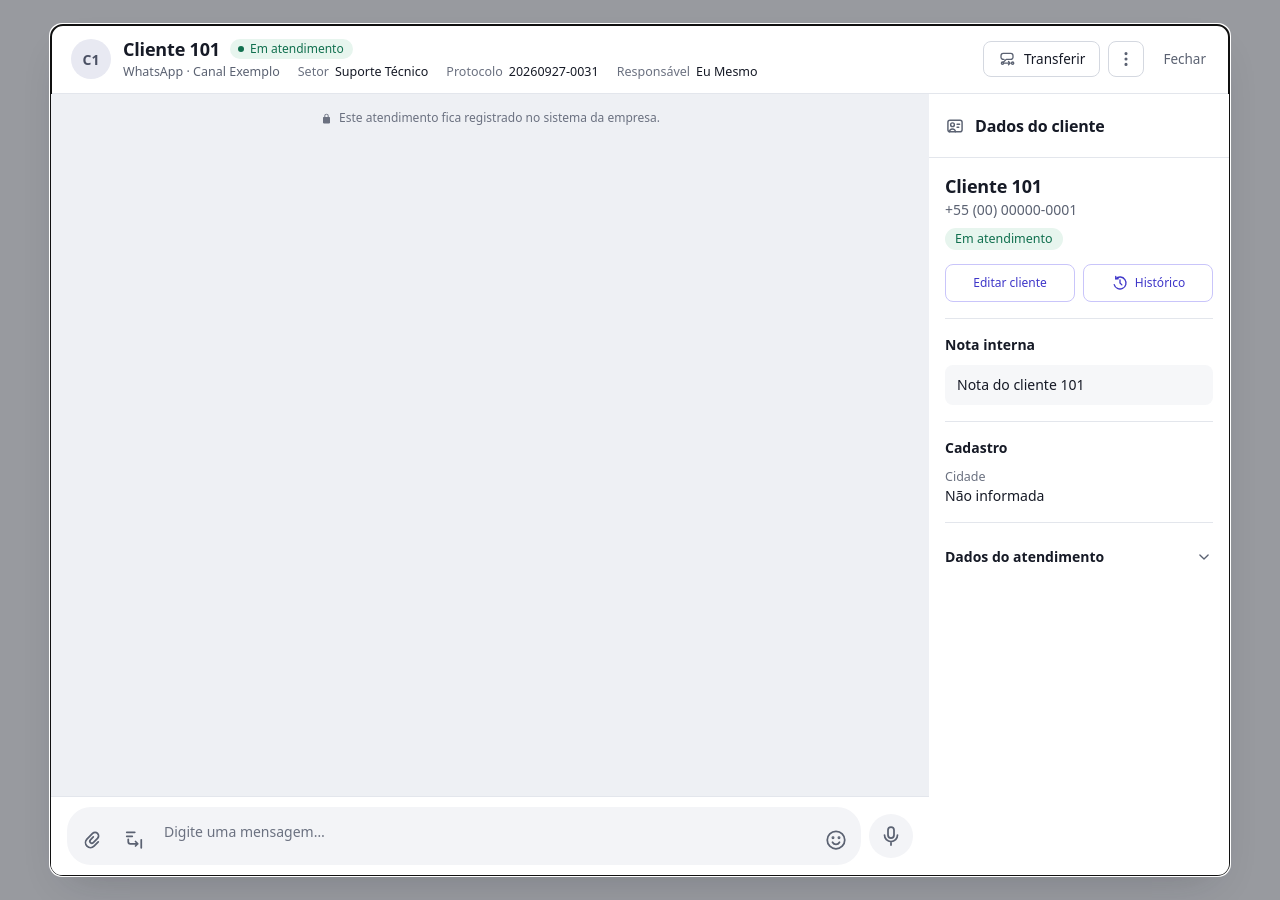
revisão: compositor, menu e foco dentro do popup › Escape com Emojis abertos fecha só o popover: o popup e o rascunho ficam
The width and height of the screenshot is (1280, 900).
Type "rascunho importante" into the text box with placeholder "Digite uma mensagem…" at (485, 836), box [156, 812, 814, 860]
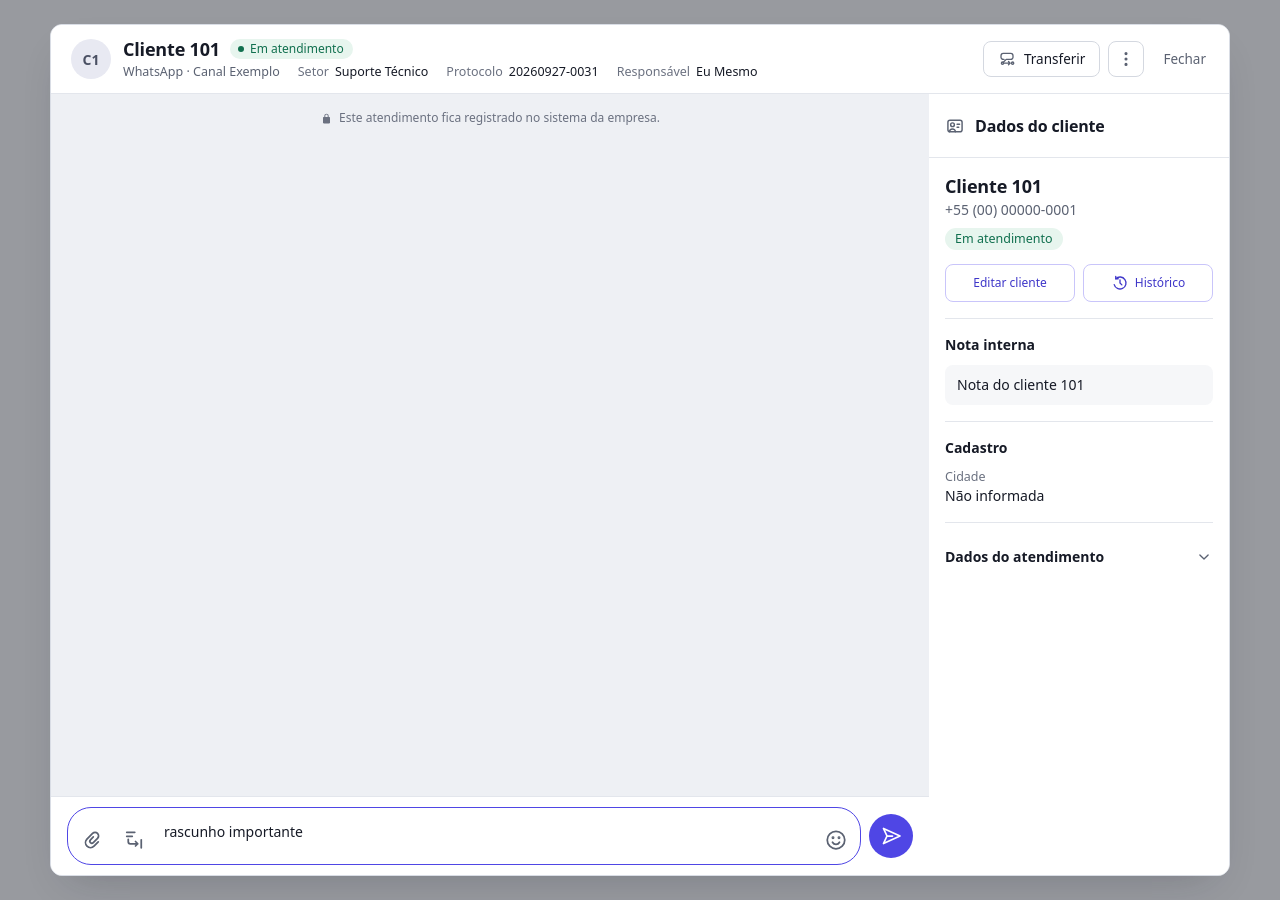
Click the button named "Emojis" at (836, 840), box [816, 820, 856, 860]
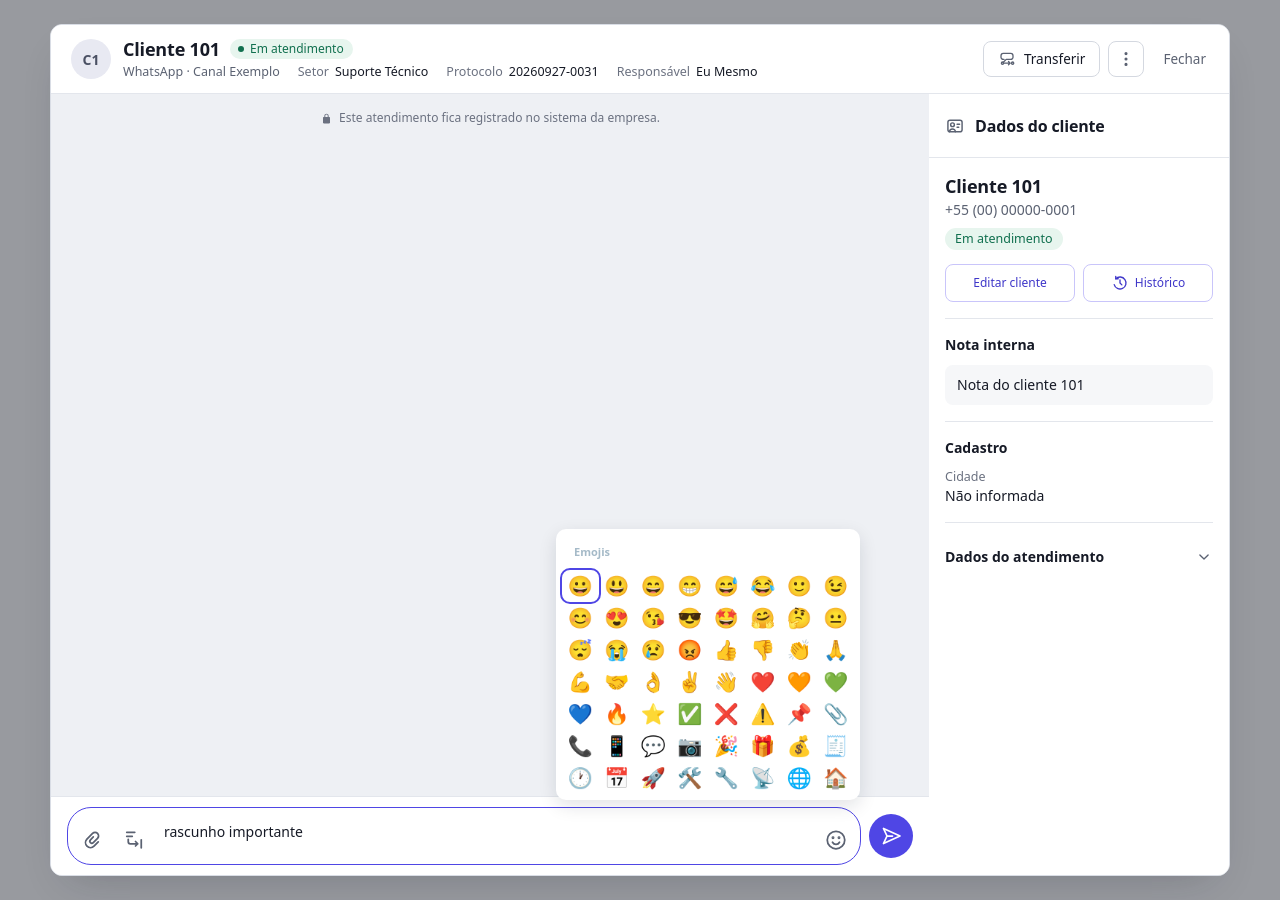
Now the dialog with id "composer-emojis" is shown, box [556, 528, 860, 800]
Press Escape
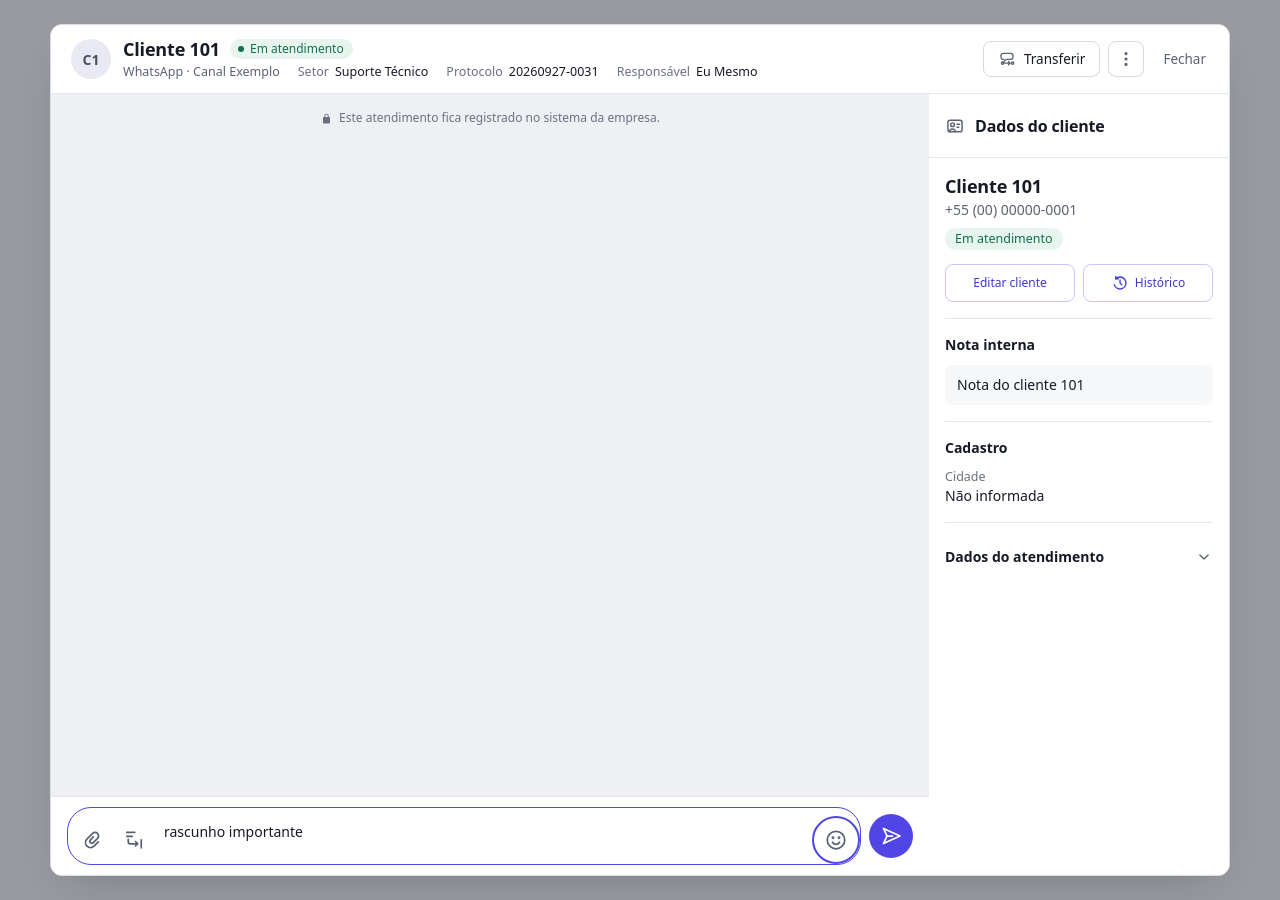
Now the dialog with id "composer-emojis" is gone
